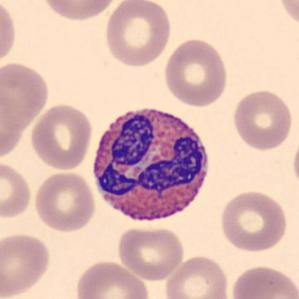Eosinophil: (86, 98, 216, 230)
RBC: (161, 36, 230, 108), (102, 0, 173, 68), (217, 188, 289, 254), (28, 102, 95, 171), (230, 87, 294, 152), (32, 170, 98, 233), (115, 224, 186, 282), (0, 230, 52, 299), (0, 59, 51, 129), (72, 258, 152, 299), (162, 253, 231, 299), (228, 262, 298, 299), (0, 159, 34, 221), (38, 0, 121, 23), (0, 89, 24, 158), (0, 0, 18, 69), (275, 0, 299, 30), (290, 132, 299, 193)
